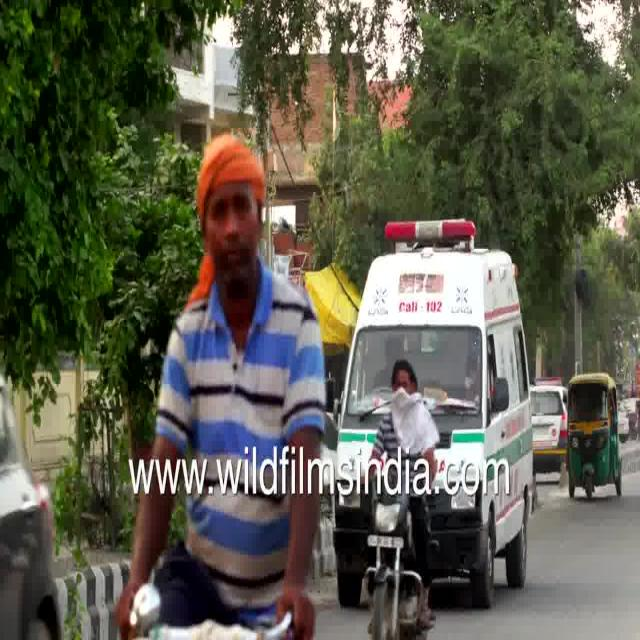ambulance: (337, 206, 537, 553)
